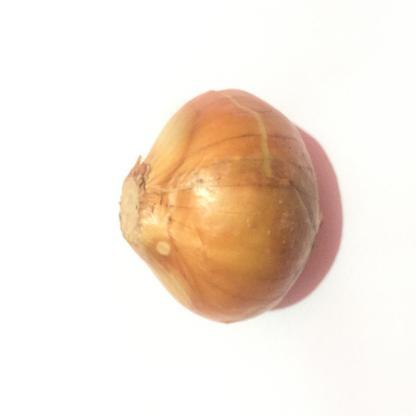onion: (102, 82, 342, 338)
